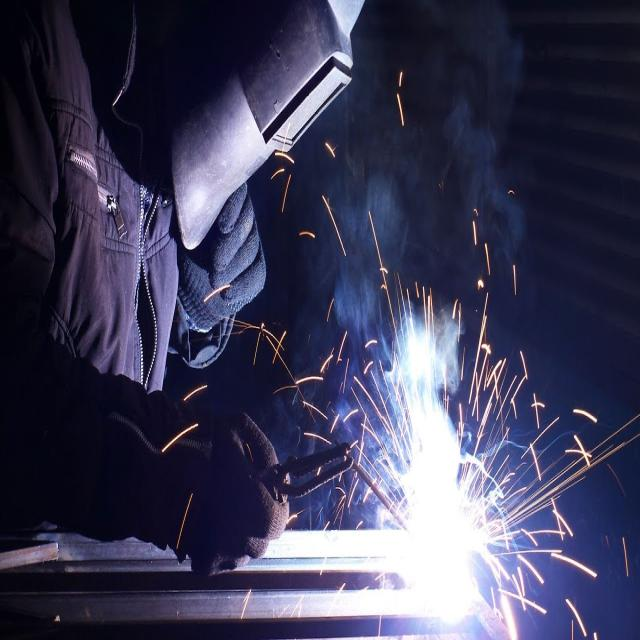welding: (401, 485, 474, 613)
